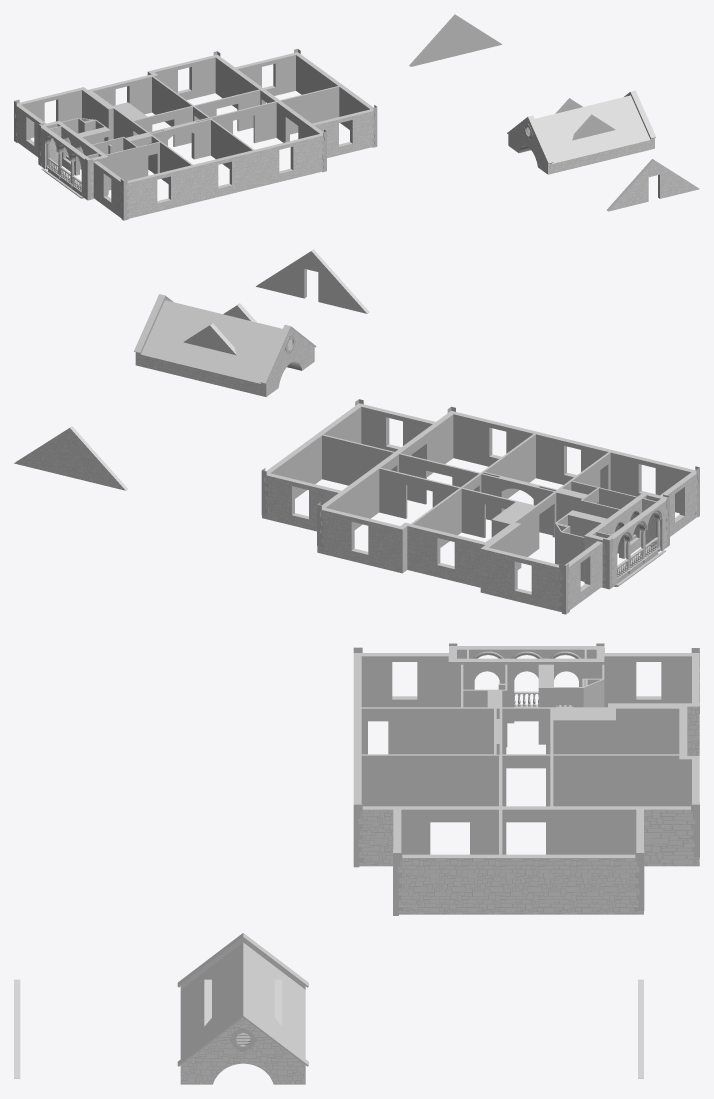
Rendered from RB05__Storey__FirstFloor__ProposedWalls__MeshModel__.glb.
3 views of the same model, one above another, from view 1: azimuth 30°, elevation 25°; view 2: azimuth 150°, elevation 25°; view 3: azimuth 270°, elevation 25° (orthographic). The views are drawn at different scales.
Visible parts, largest first — view 1: 21__ProposedBuilding__Walls::Default, 21__ProposedBuilding__Walls::MAT000E__Masonry__StoneworkPatt; view 2: 21__ProposedBuilding__Walls::Default, 21__ProposedBuilding__Walls::MAT000E__Masonry__StoneworkPatt; view 3: 21__ProposedBuilding__Walls::Default, 21__ProposedBuilding__Walls::MAT000E__Masonry__StoneworkPatt.
Boxes of the visible parts, x1=… form: 21__ProposedBuilding__Walls::Default: x1=14, y1=14, x2=697, y2=220; 21__ProposedBuilding__Walls::MAT000E__Masonry__StoneworkPatt: x1=15, y1=72, x2=699, y2=218; 21__ProposedBuilding__Walls::Default: x1=16, y1=249, x2=699, y2=614; 21__ProposedBuilding__Walls::MAT000E__Masonry__StoneworkPatt: x1=14, y1=328, x2=697, y2=612; 21__ProposedBuilding__Walls::Default: x1=14, y1=643, x2=699, y2=1078; 21__ProposedBuilding__Walls::MAT000E__Masonry__StoneworkPatt: x1=180, y1=706, x2=699, y2=1084.
Size of the model in its own units: 42.42 by 3.72 by 32.91.
Materials: 2 (1 with a texture image).
